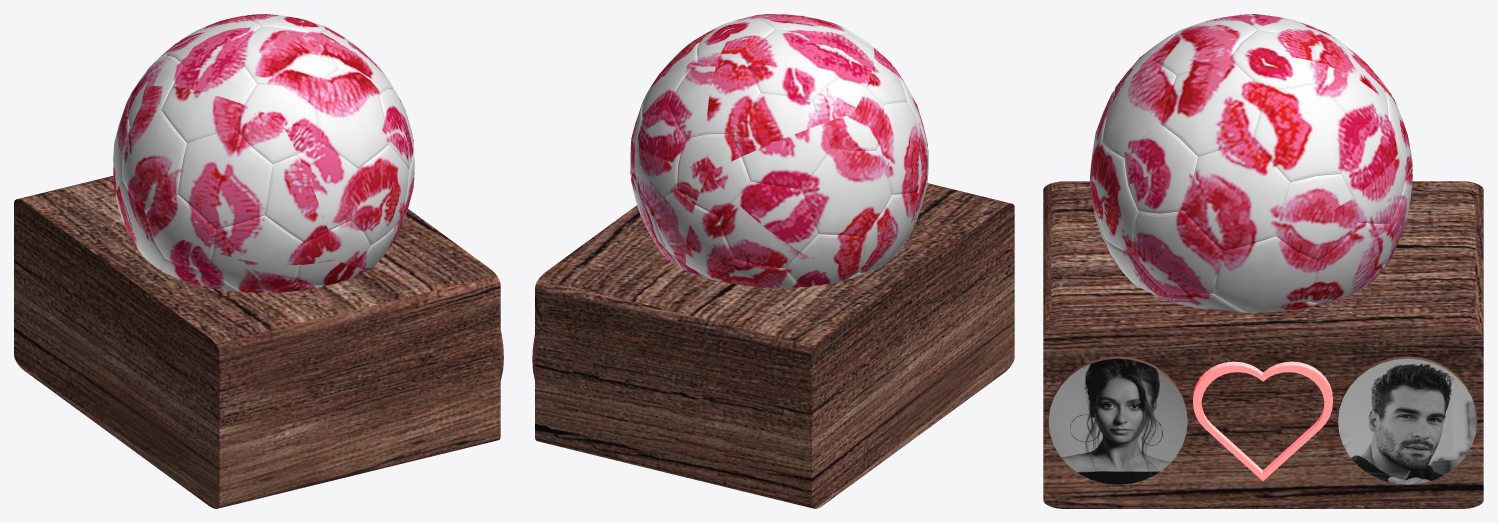
File: ball_with_people.gltf
3 renders of one model, left to right at view 1: azimuth 30°, elevation 25°; view 2: azimuth 150°, elevation 25°; view 3: azimuth 270°, elevation 25°, orthographic. The views are drawn at different scales.
Visible parts, largest first — view 1: Cube.001, Icosphere.002; view 2: Cube.001, Icosphere.002; view 3: Cube.001, Icosphere.002, Circle.003, Circle.002, Cube.038.
Part boxes in pixels (bbox=[...]): Cube.001: bbox=[14, 176, 500, 508]; Icosphere.002: bbox=[113, 14, 414, 292]; Cube.001: bbox=[535, 183, 1014, 508]; Icosphere.002: bbox=[630, 14, 928, 287]; Cube.001: bbox=[1043, 181, 1483, 508]; Icosphere.002: bbox=[1090, 14, 1412, 312]; Circle.003: bbox=[1048, 358, 1187, 484]; Circle.002: bbox=[1338, 358, 1476, 484]; Cube.038: bbox=[1193, 361, 1332, 480].
Size of the model in its own units: 7.69 by 9.69 by 9.5.
5 materials, 4 textured.
